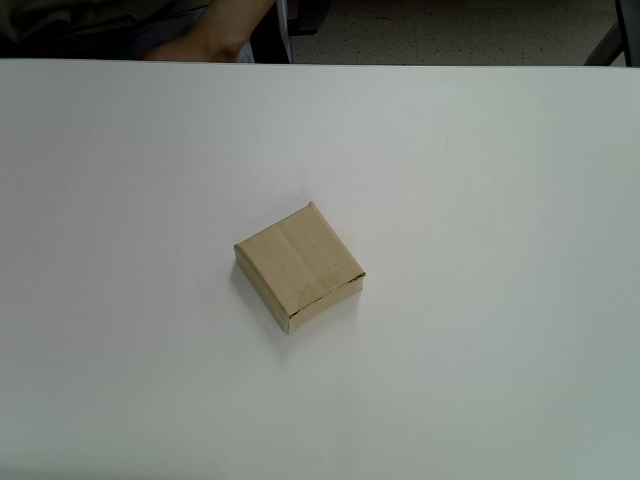normal: (233, 199, 368, 335)
